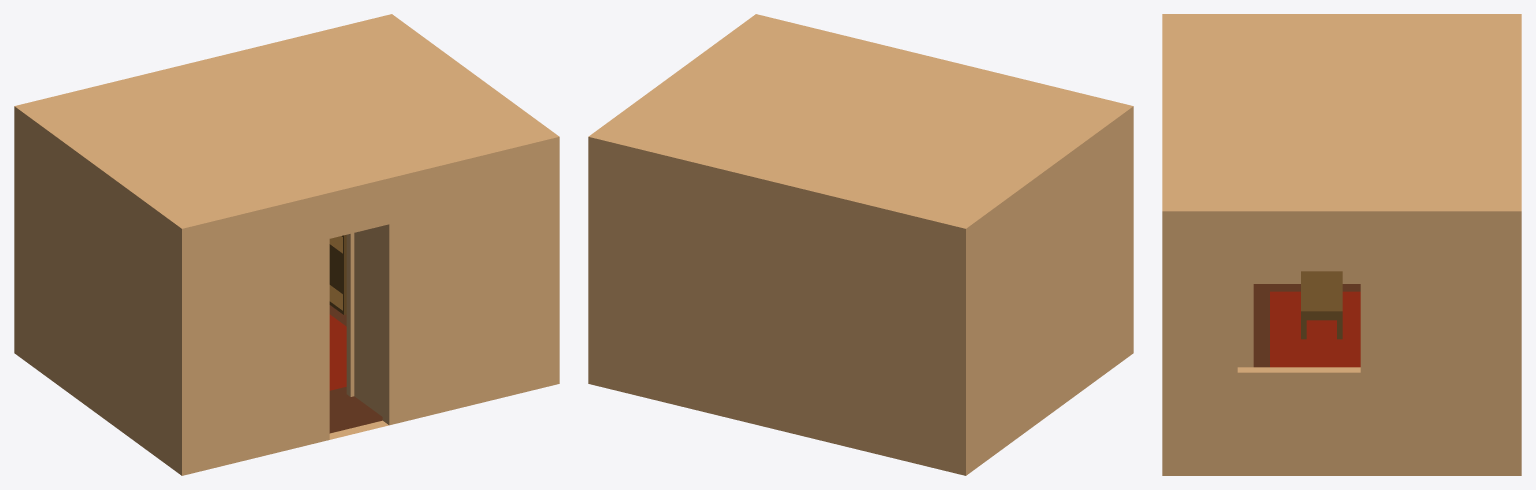
File: S_salon.glb
3 renders of one model, left to right at view 1: azimuth 30°, elevation 25°; view 2: azimuth 150°, elevation 25°; view 3: azimuth 270°, elevation 25°, orthographic. The views are drawn at different scales.
Visible parts, largest first — view 1: murAvecFenetre.001, plafontch, Plane.079, Plane.080, Plane.092, Cube.044, Plane.087; view 2: murAvecFenetre.001, plafontch; view 3: murAvecFenetre.001, plafontch, Plane.087, Cube.058, Plane.079, Plane.092.
Part boxes in pixels (left/top/right/bottom): murAvecFenetre.001: left=14, top=14, right=559, bottom=475; plafontch: left=31, top=21, right=542, bottom=221; Plane.079: left=350, top=144, right=390, bottom=416; Plane.080: left=283, top=146, right=354, bottom=396; Plane.092: left=329, top=305, right=382, bottom=433; Cube.044: left=329, top=235, right=346, bottom=314; Plane.087: left=329, top=314, right=346, bottom=390; murAvecFenetre.001: left=588, top=14, right=1133, bottom=475; plafontch: left=605, top=21, right=1116, bottom=221; murAvecFenetre.001: left=1162, top=14, right=1521, bottom=475; plafontch: left=1176, top=19, right=1507, bottom=205; Plane.087: left=1270, top=291, right=1360, bottom=367; Cube.058: left=1301, top=271, right=1342, bottom=339; Plane.079: left=1176, top=124, right=1253, bottom=367; Plane.092: left=1253, top=284, right=1360, bottom=367.
Size of the model in its own units: 4.23 by 2.66 by 3.25.
